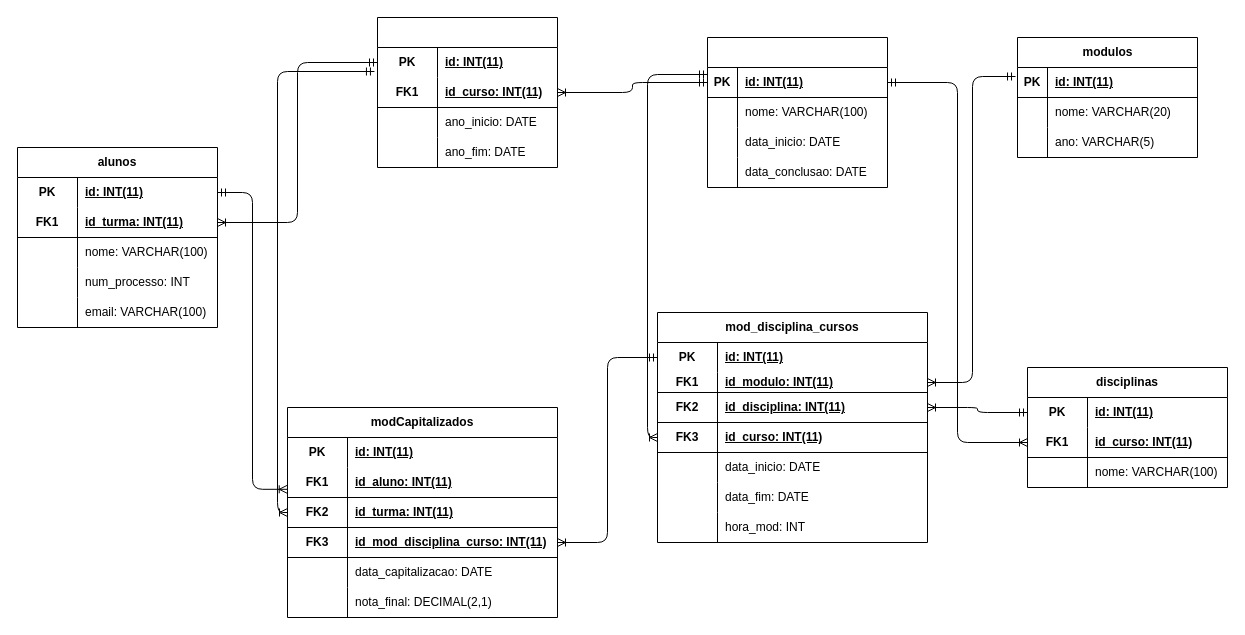
This 1245x635 diagram has some shape labels left out. The shapes that lost their labels are listed below. From the top down, each one's box as (x1, y1, x2, y2) in pixels, then its label:
(376, 16, 558, 168): turmas
(706, 36, 888, 188): cursos
